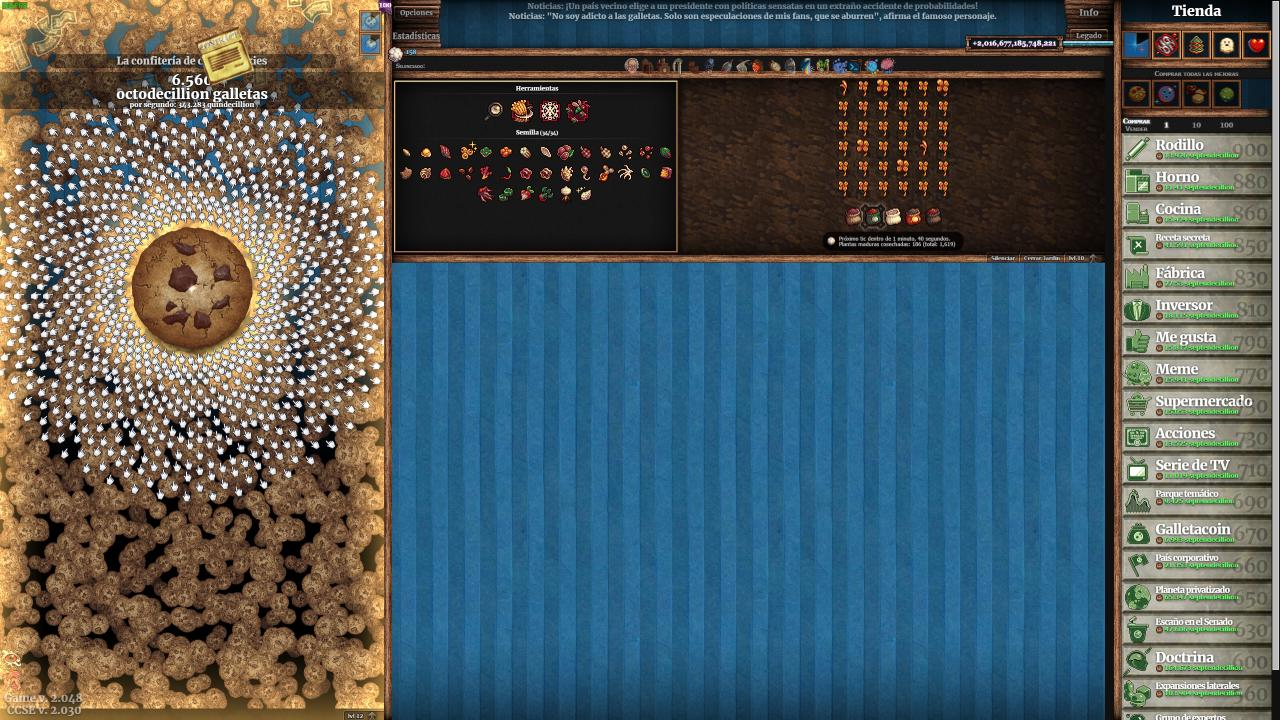GoldenCartridge: (195, 25, 255, 87)
